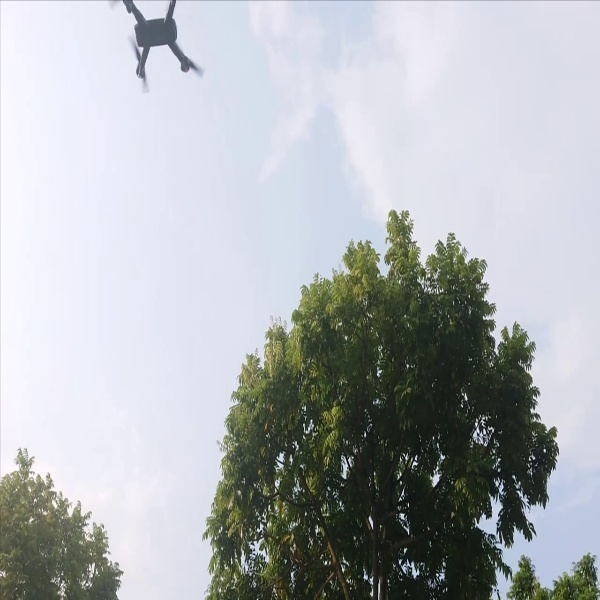drone: (104, 1, 212, 100)
